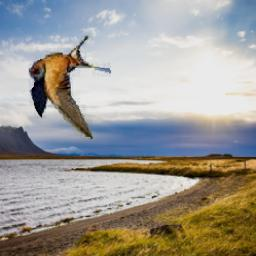Swallow: (29, 37, 111, 140)
